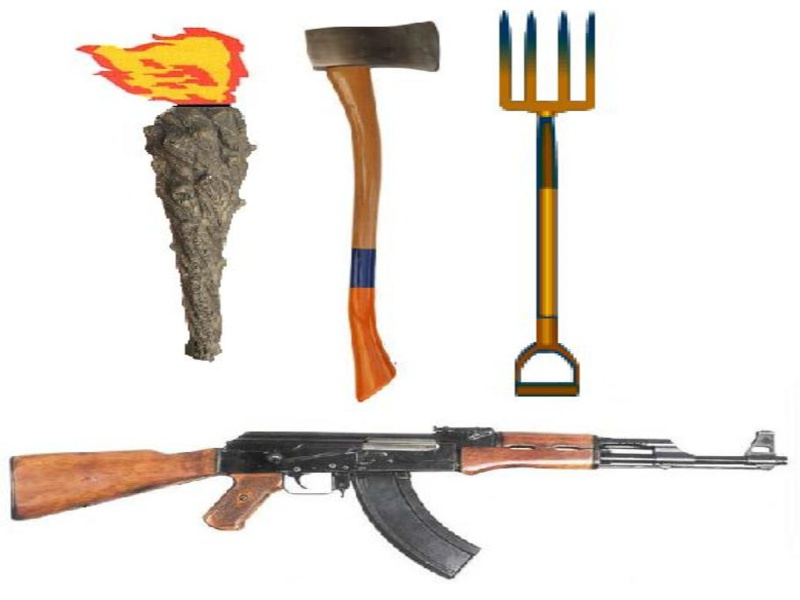axe: (298, 15, 449, 407)
